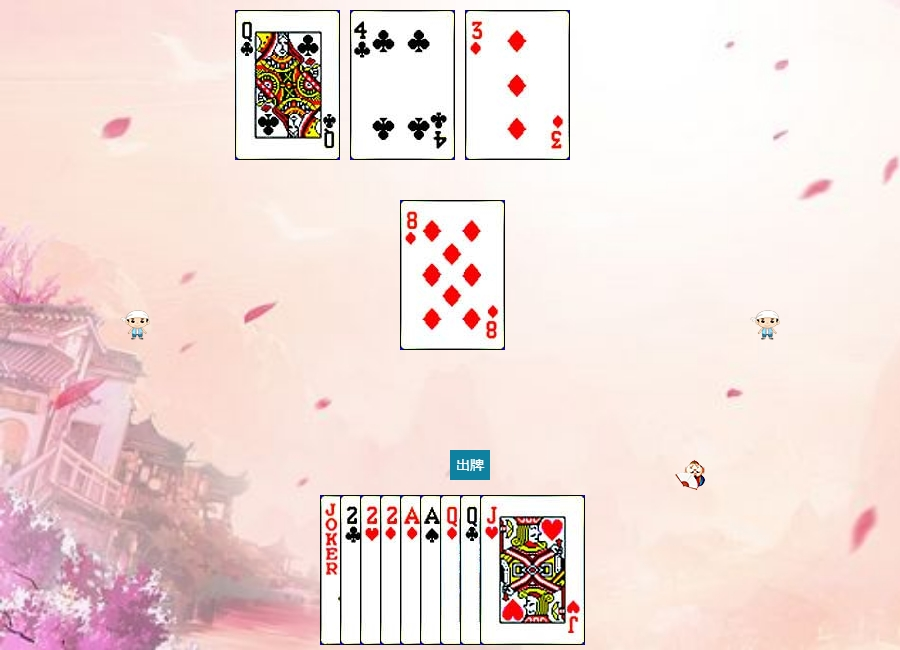11~3: (480, 495, 585, 645)
12~1: (440, 495, 545, 645)
12~2: (235, 10, 340, 160), (460, 495, 565, 645)
14~1: (400, 495, 505, 645)
14~4: (420, 495, 525, 645)
15~1: (380, 495, 485, 645)
15~2: (340, 495, 445, 645)
15~3: (360, 495, 465, 645)
18~4: (320, 495, 425, 645)
3~1: (465, 10, 570, 160)
4~2: (350, 10, 455, 160)
8~1: (400, 200, 505, 350)
